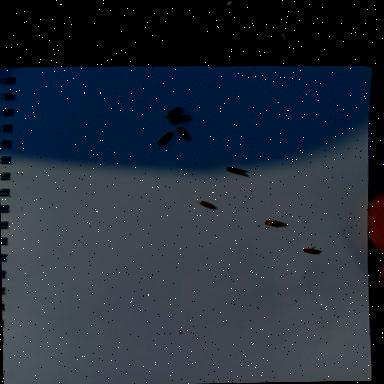pbw: (156, 128, 176, 147), (226, 164, 250, 178), (164, 106, 182, 124), (195, 198, 218, 210), (170, 112, 192, 124), (264, 218, 287, 229), (176, 126, 192, 140), (302, 245, 322, 256)
